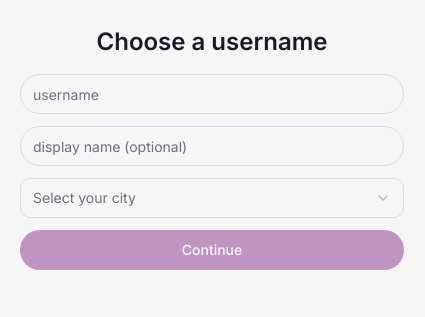
Test: UsernameSetupPage › shows a friendly message when the username is already taken
Step 1. Type "renz" into the field with placeholder "username" → (212, 94), box [20, 74, 404, 114]
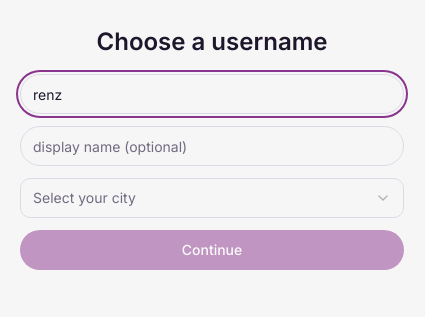
Step 2. Click the dropdown → (84, 198), box [20, 178, 404, 218]
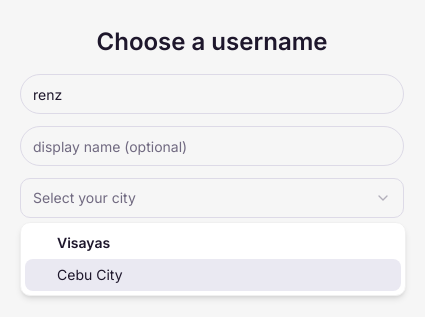
Step 3. Click the option "Cebu City" → (90, 274), box [25, 259, 401, 291]
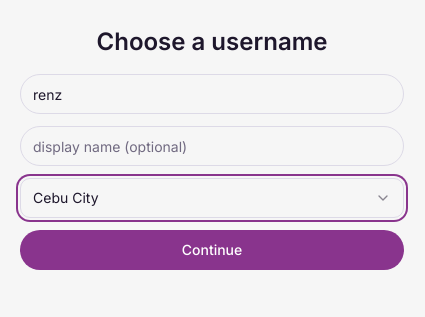
Step 4. Click the button "Continue" → (212, 250), box [20, 230, 404, 270]
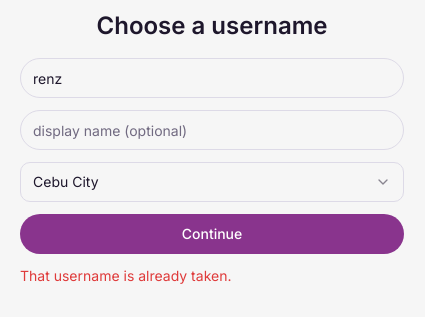
Expected: the text "That username is already taken." is shown, [20, 267, 232, 284]
